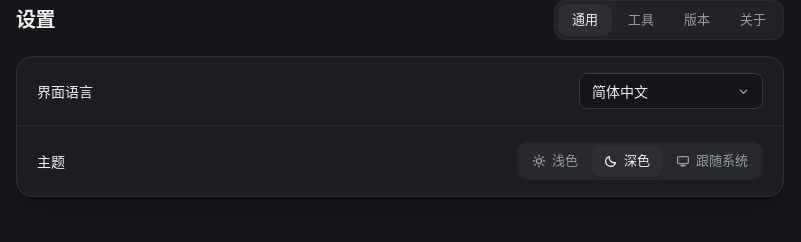
it: SettingsPage data safety › closes the language list on Escape without saving
Step 1. Click the button with test id "settings-language" → (671, 91), box [579, 73, 763, 109]
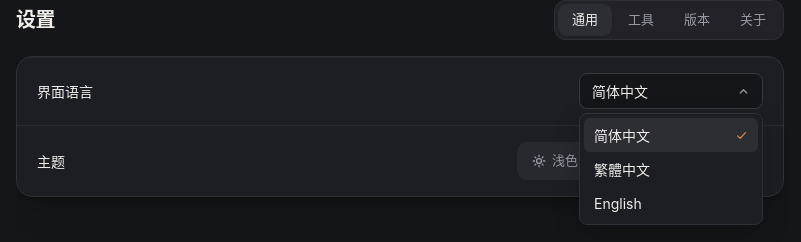
Step 2. Press Escape in the button with test id "settings-language", box [579, 73, 763, 109]
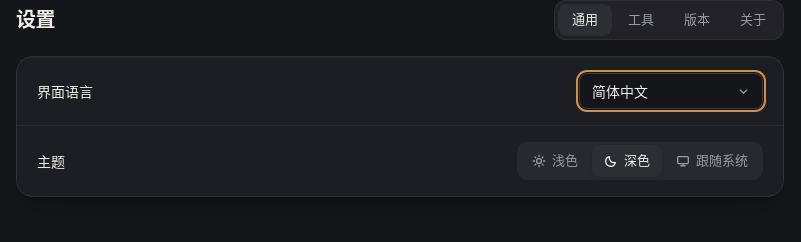
Expected: the list with test id "settings-language-menu" is gone
